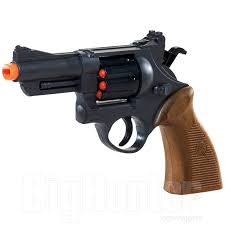Arma Falsa: (2, 31, 222, 188)
